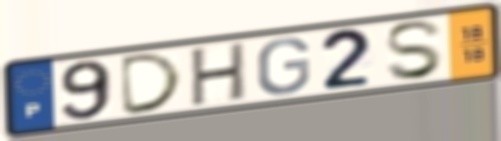2: (319, 24, 380, 96)
9: (58, 59, 115, 124)
D: (118, 49, 187, 118)
G: (254, 36, 312, 97)
H: (188, 39, 249, 110)
S: (382, 18, 447, 83)
